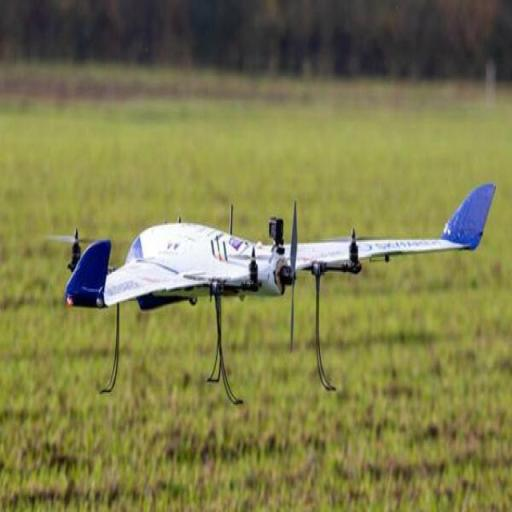uav: (50, 173, 508, 324)
